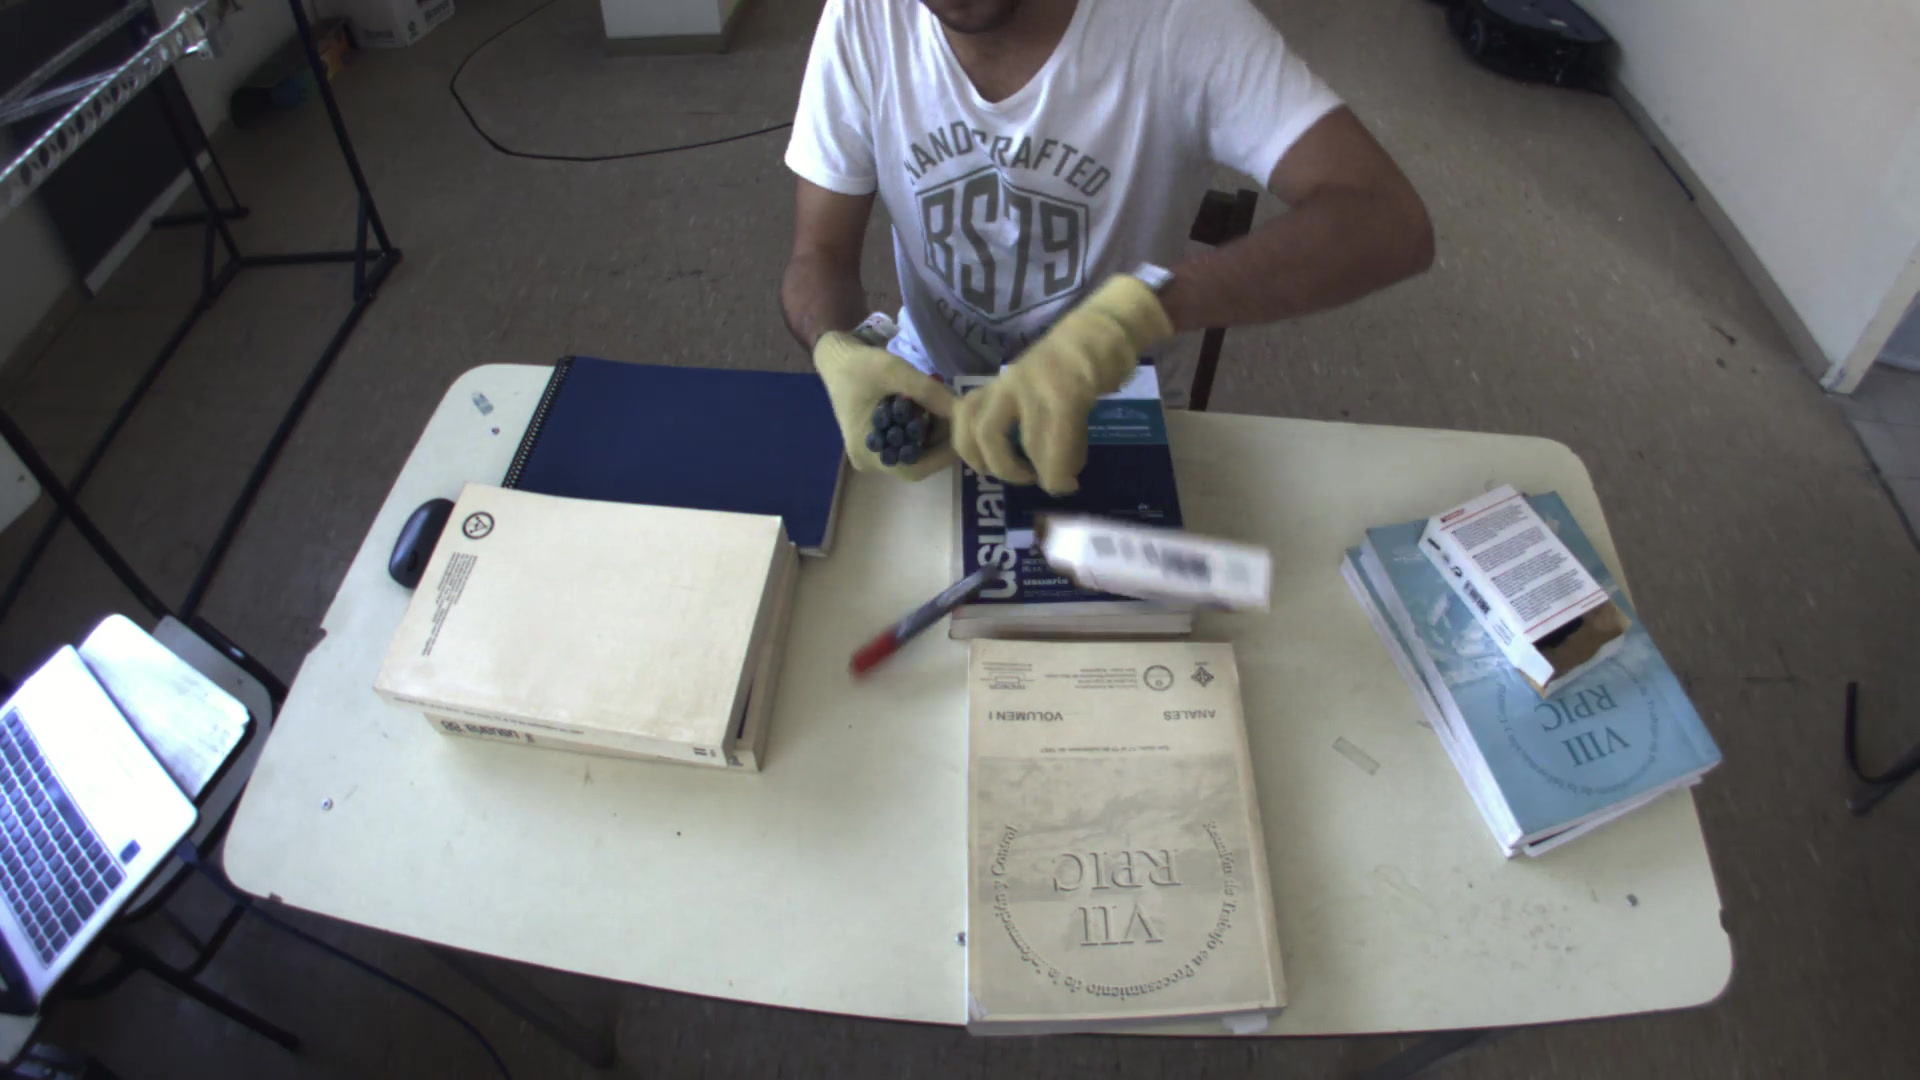hand: (945, 265, 1182, 497), (800, 322, 959, 480)
